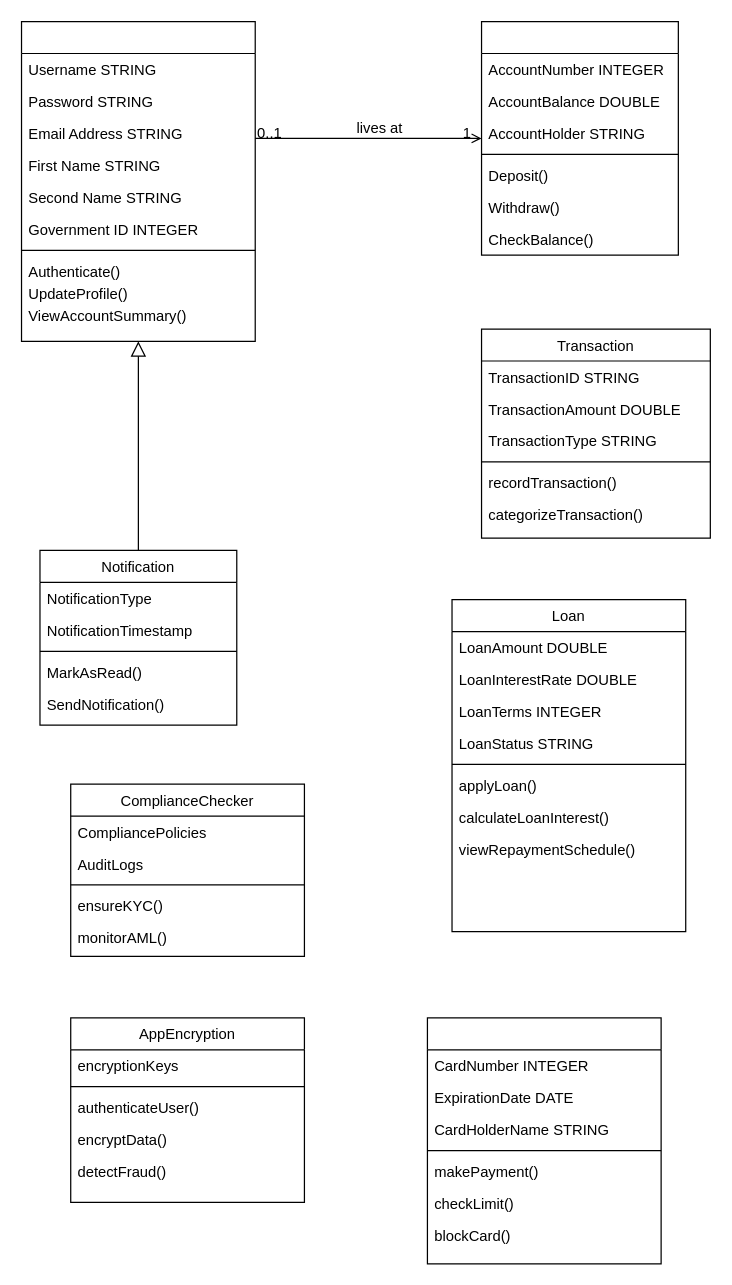
The diagram is 732 pixels wide and 1285 high, and some of its shapes have lost their labels. Each missing label, with the box of its shape:
BankAccount: (480, 20, 678, 255)
BankCard: (426, 1017, 661, 1264)
BankUser: (20, 20, 255, 341)
